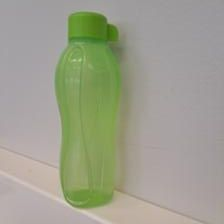bottle: (54, 11, 124, 209)
